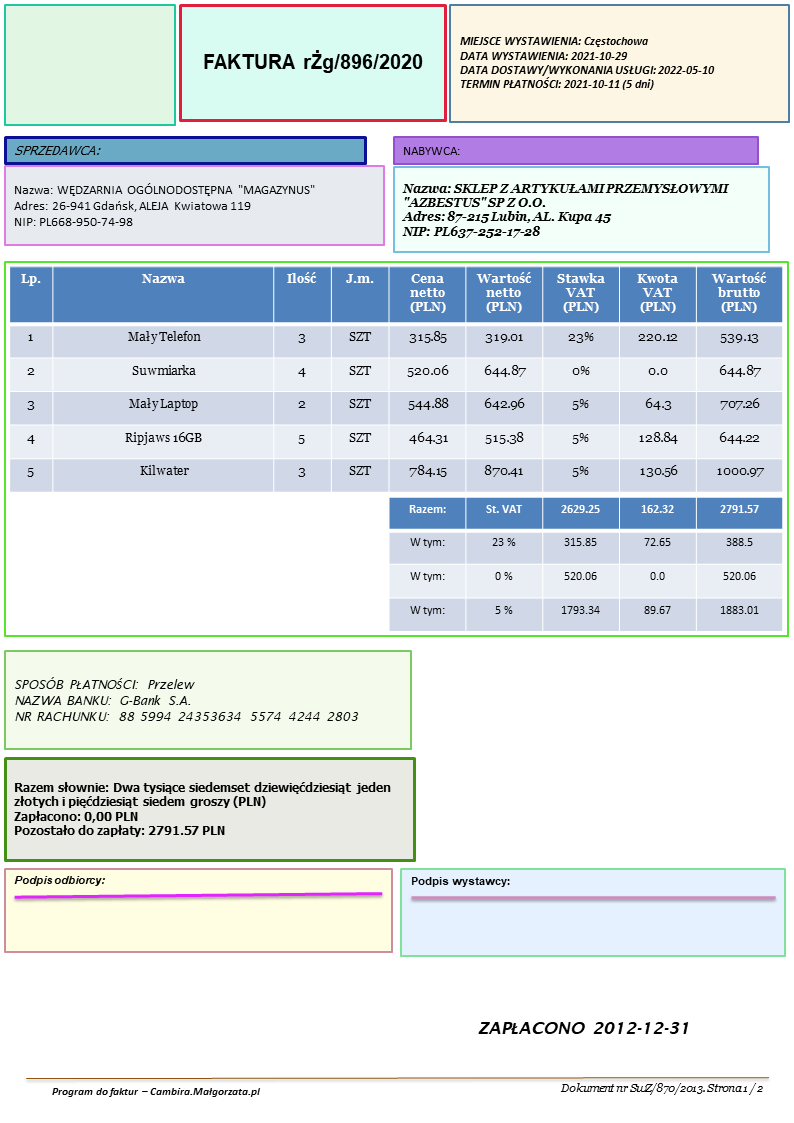Table: (8, 265, 785, 493), (387, 497, 784, 633)
TextBox: (12, 779, 394, 840), (399, 179, 730, 239), (12, 674, 362, 727), (458, 32, 717, 93), (11, 179, 317, 229), (200, 49, 425, 76), (476, 1017, 690, 1039), (558, 1079, 764, 1099), (49, 1084, 262, 1101), (408, 872, 511, 892), (12, 138, 102, 160), (12, 872, 107, 890), (400, 143, 461, 159)
